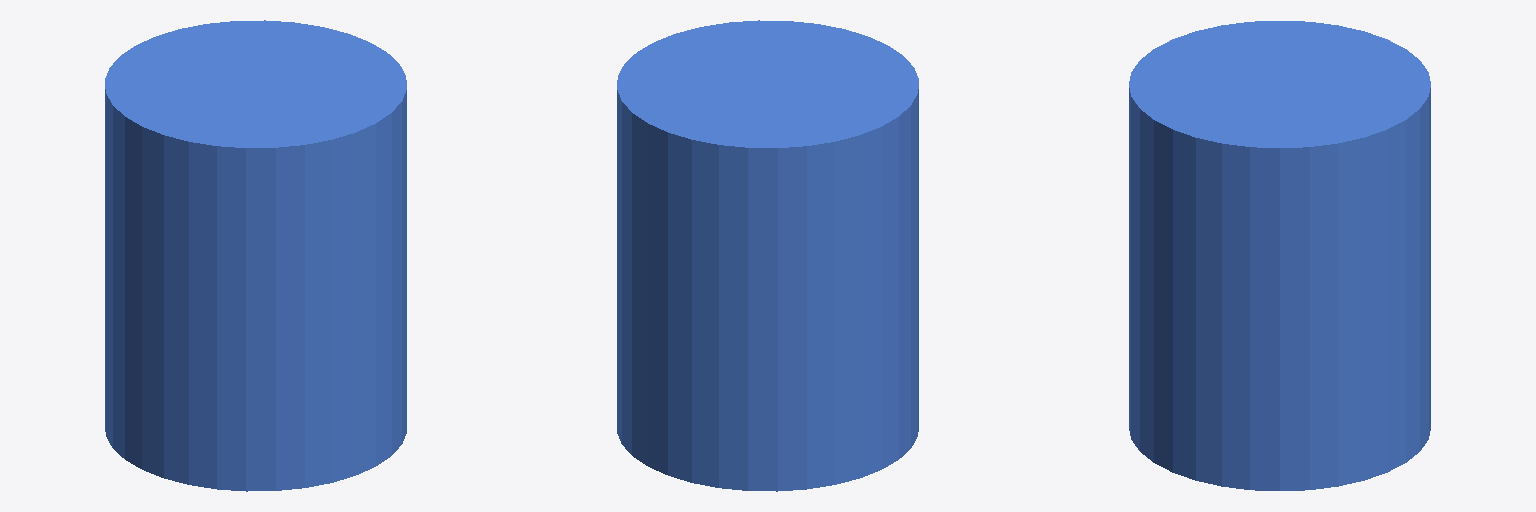
robot.urdf — fr3_link6_robot:
<?xml version="0.0" ?>
<robot name="fr3_link6_robot">
  <link name="base_link">
    <inertial>
      <origin rpy="0 0 0" xyz="0 0 0"/>
       <mass value=".1"/>
       <inertia ixx="1" ixy="0" ixz="0" iyy="1" iyz="0" izz="1"/>
    </inertial>
    
    <visual>
      <origin rpy="0 0 0" xyz="0 0 0.00"/>
      <geometry>
        <cylinder length="0.20" radius="0.08"/>
      </geometry>
      <material name="cornflowerblue">
        <color rgba="0.3921 0.5843 0.9294 0.8"/>
      </material>
    </visual>
  </link>
</robot>

--- Facts derived from the render (not from the file) ---
Views: 3 orthographic renders of the robot side by side, from view 1: azimuth 30°, elevation 25°; view 2: azimuth 150°, elevation 25°; view 3: azimuth 270°, elevation 25°.
Robot: fr3_link6_robot — 1 links, 0 joints (none); root link base_link; default pose: every joint at zero.
Visible links, largest first — view 1: base_link; view 2: base_link; view 3: base_link.
Boxes of the visible links, x1,y1,x2,y2 form: base_link: (105, 20, 406, 491); base_link: (617, 20, 918, 491); base_link: (1129, 21, 1430, 490).
Size in the robot's own frame: 0.16 by 0.16 by 0.2 metres.
Geometry: primitives only (box / cylinder / sphere), no mesh files.